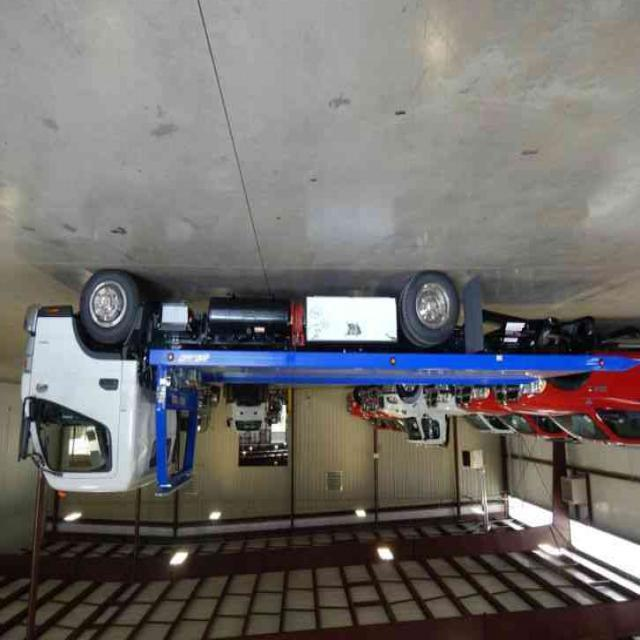truck: (13, 272, 639, 494)
